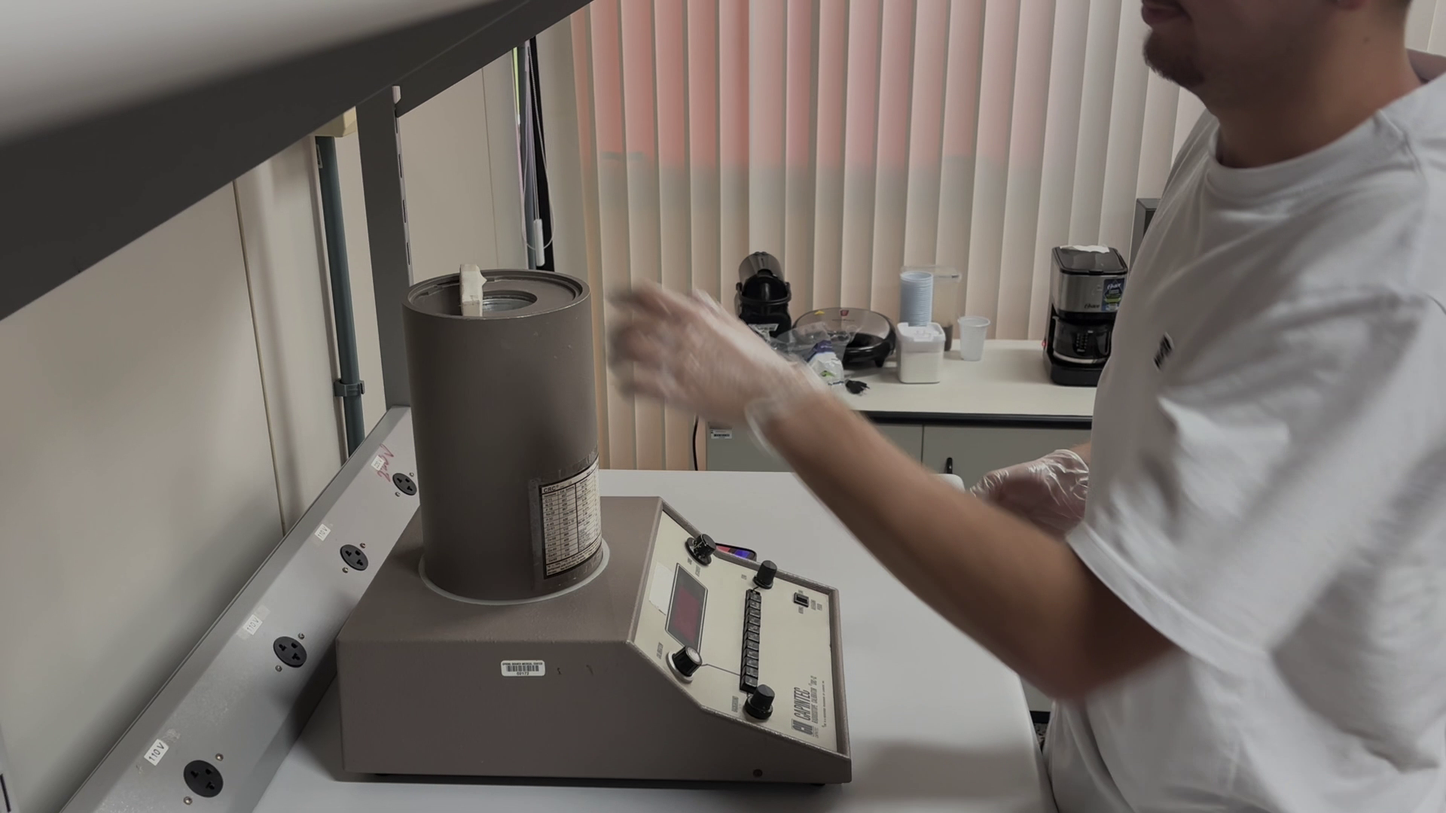Ativimetro: (398, 267, 609, 606)
Com_Luva: (602, 275, 829, 448), (962, 445, 1094, 535)
